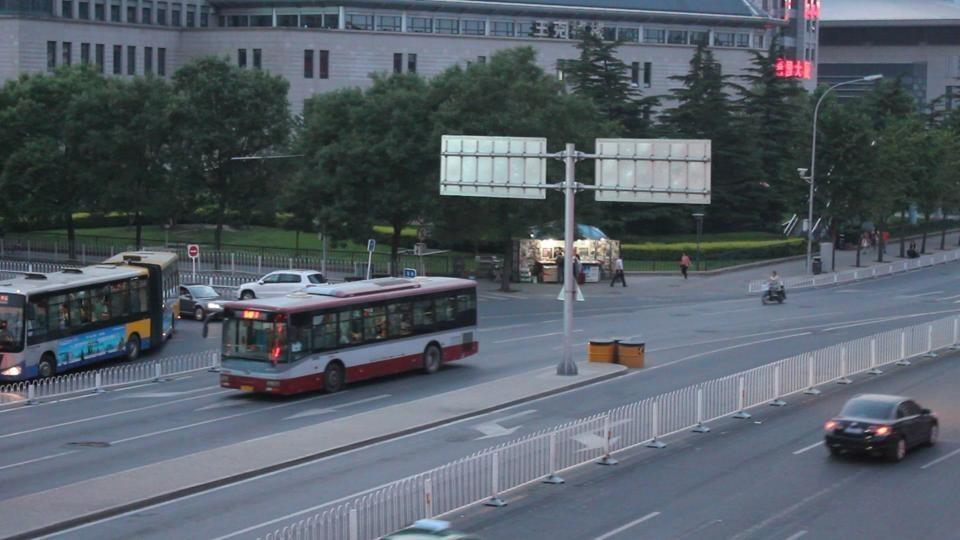car: (823, 393, 941, 462), (234, 270, 328, 301), (176, 284, 226, 321)
